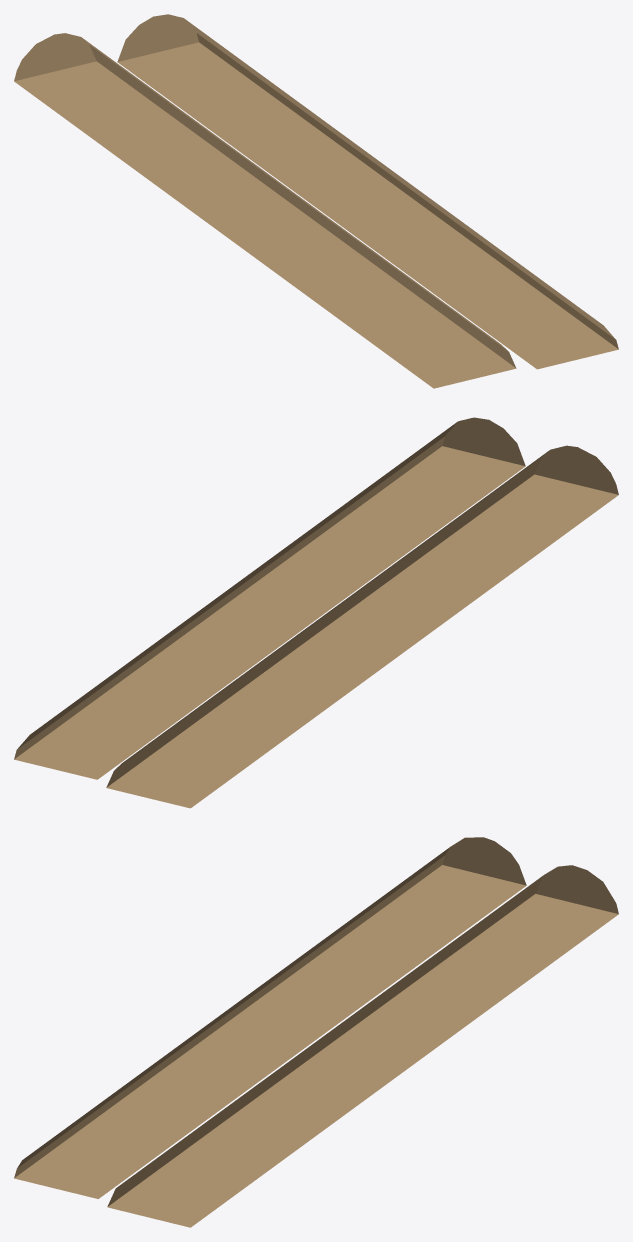
3 views of the same model, one above another, from view 1: azimuth 30°, elevation 25°; view 2: azimuth 150°, elevation 25°; view 3: azimuth 330°, elevation 25° (orthographic). The views are drawn at different scales.
Visible parts, largest first — view 1: 0_2_0_1_2_1_2_3_3_3_3; view 2: 0_2_0_1_2_1_2_3_3_3_3; view 3: 0_2_0_1_2_1_2_3_3_3_3.
Boxes of the visible parts, bbox=[...] form: 0_2_0_1_2_1_2_3_3_3_3: bbox=[14, 14, 618, 388]; 0_2_0_1_2_1_2_3_3_3_3: bbox=[14, 417, 618, 808]; 0_2_0_1_2_1_2_3_3_3_3: bbox=[14, 837, 618, 1227].
Size of the model in its own units: 7.39 by 1.47 by 30.43.
